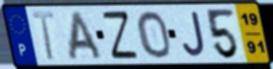5: (203, 7, 240, 60)
A: (67, 10, 105, 61)
J: (180, 10, 207, 58)
O: (134, 10, 173, 60)
T: (29, 10, 57, 63)
Z: (100, 9, 140, 61)
